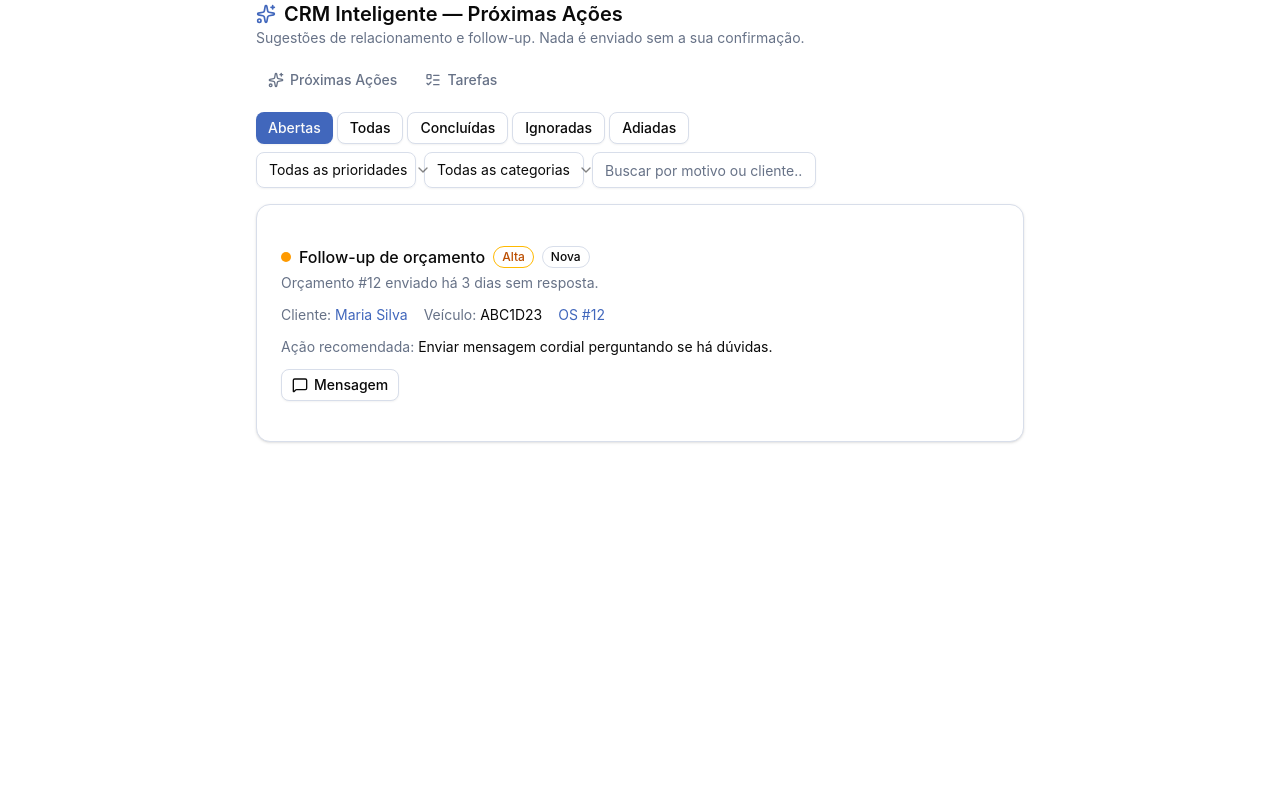
Test: CRM — Próximas Ações › hides AI generation without the use_ai permission
Expected: the text "Follow-up de orçamento" is shown, [299, 245, 485, 269]
What coordinates should you click on to do the following:
click the button "Mensagem"
I would click on:
 (340, 385)
Its box is [281, 369, 399, 401].
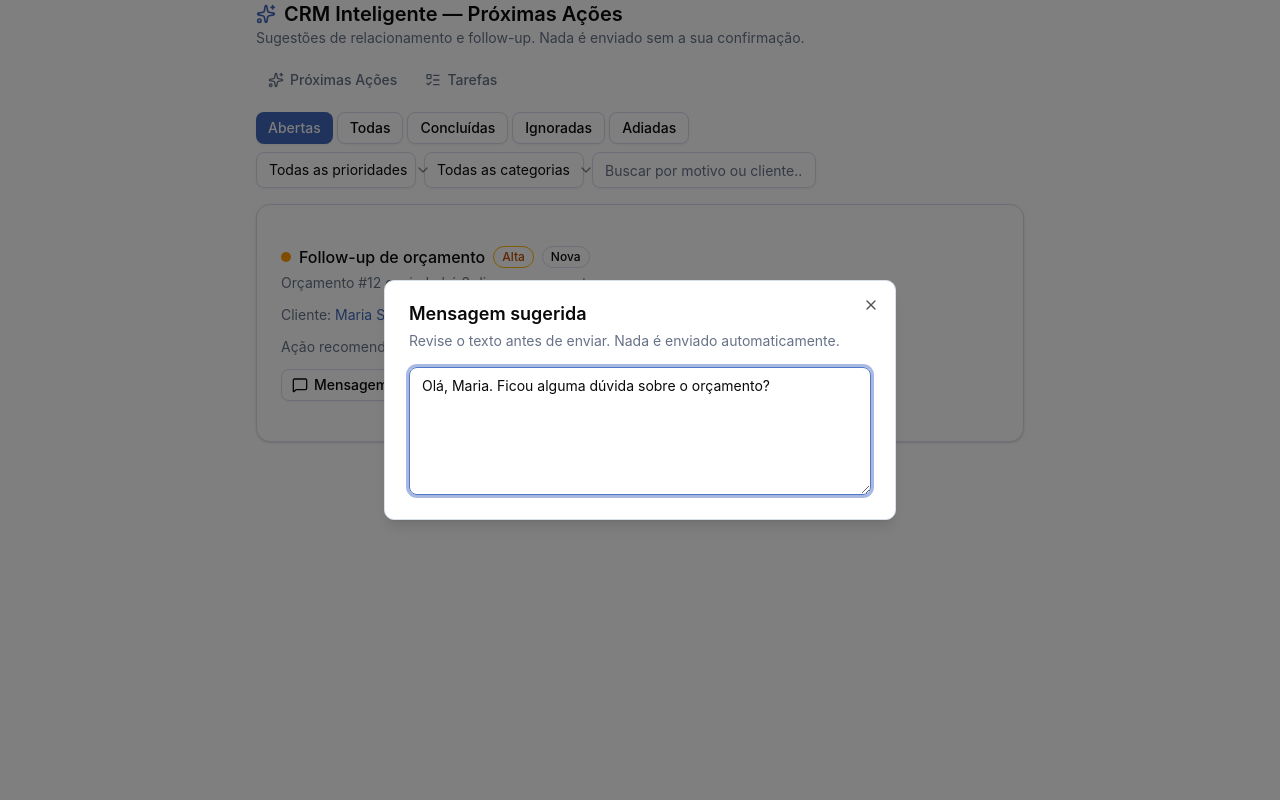
Expected: the heading "Mensagem sugerida" is shown, [409, 303, 586, 324]
